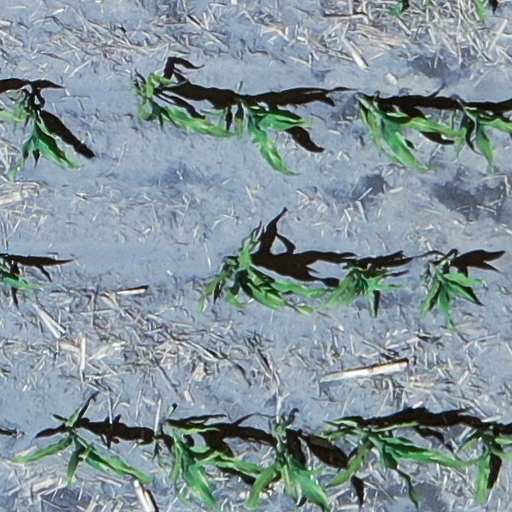planta: (320, 420, 479, 503), (199, 224, 328, 314), (15, 405, 154, 485), (356, 97, 470, 172), (169, 425, 262, 508), (127, 73, 243, 139), (246, 423, 333, 510), (321, 265, 412, 321), (245, 105, 313, 176), (420, 260, 484, 331)
